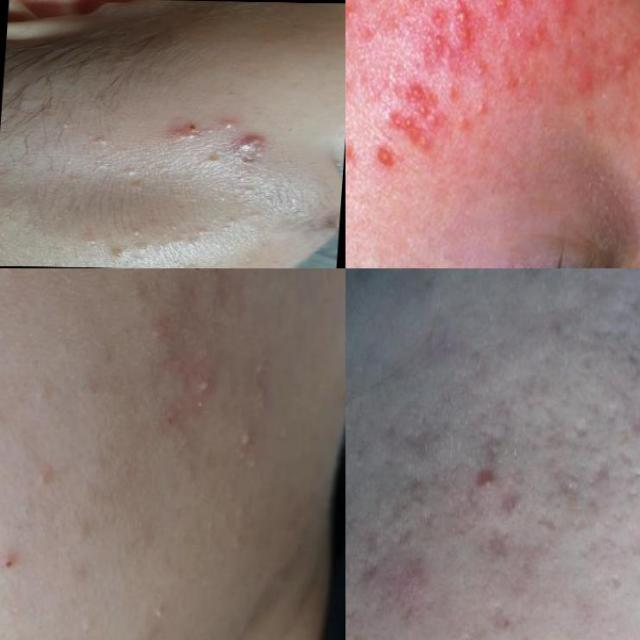8: (390, 550, 438, 600), (450, 94, 499, 135), (569, 44, 595, 94), (163, 121, 210, 144), (475, 0, 512, 18)
9: (384, 109, 418, 134), (376, 137, 394, 180), (212, 115, 245, 134), (616, 50, 634, 80)
blackheads: (380, 403, 455, 456), (544, 453, 582, 509), (417, 4, 442, 79), (478, 530, 518, 574), (585, 444, 618, 490), (226, 131, 272, 162), (623, 376, 640, 447), (448, 0, 472, 48), (495, 488, 522, 518)
